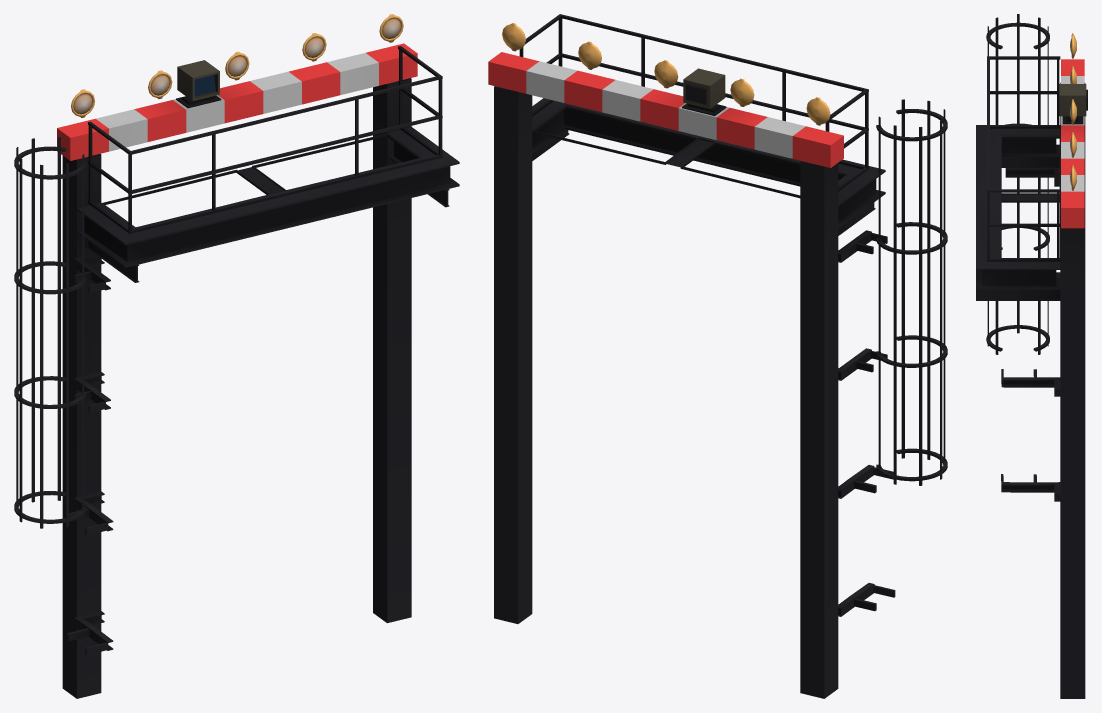
File: af_appr.glb
3 renders of one model, left to right at view 1: azimuth 30°, elevation 25°; view 2: azimuth 150°, elevation 25°; view 3: azimuth 270°, elevation 25°, orthographic. The views are drawn at different scales.
Parts seen in each view (by area): view 1: body|material, body|material_3, body|material_2, body|material_7, body|material_8, body|material_6; view 2: body|material, body|material_3, body|material_2, body|material_8, body|material_6; view 3: body|material, body|material_3, body|material_2, body|material_6, body|material_8.
Part boxes in pixels (box(x1,y1,x2,y2)): body|material: box(14, 46, 459, 698); body|material_3: box(57, 43, 417, 160); body|material_2: box(96, 53, 378, 151); body|material_7: box(73, 18, 401, 114); body|material_8: box(71, 14, 403, 117); body|material_6: box(177, 60, 219, 100); body|material: box(494, 14, 947, 698); body|material_3: box(488, 52, 843, 167); body|material_2: box(526, 61, 805, 158); body|material_8: box(502, 23, 830, 125); body|material_6: box(683, 68, 725, 108); body|material: box(976, 14, 1087, 698); body|material_3: box(1061, 59, 1084, 228); body|material_2: box(1061, 76, 1084, 191); body|material_6: box(1059, 84, 1086, 116); body|material_8: box(1071, 33, 1076, 190).
Size of the model in its own units: 4.54 by 6.16 by 1.18.
Materials: 7 (1 with a texture image).
